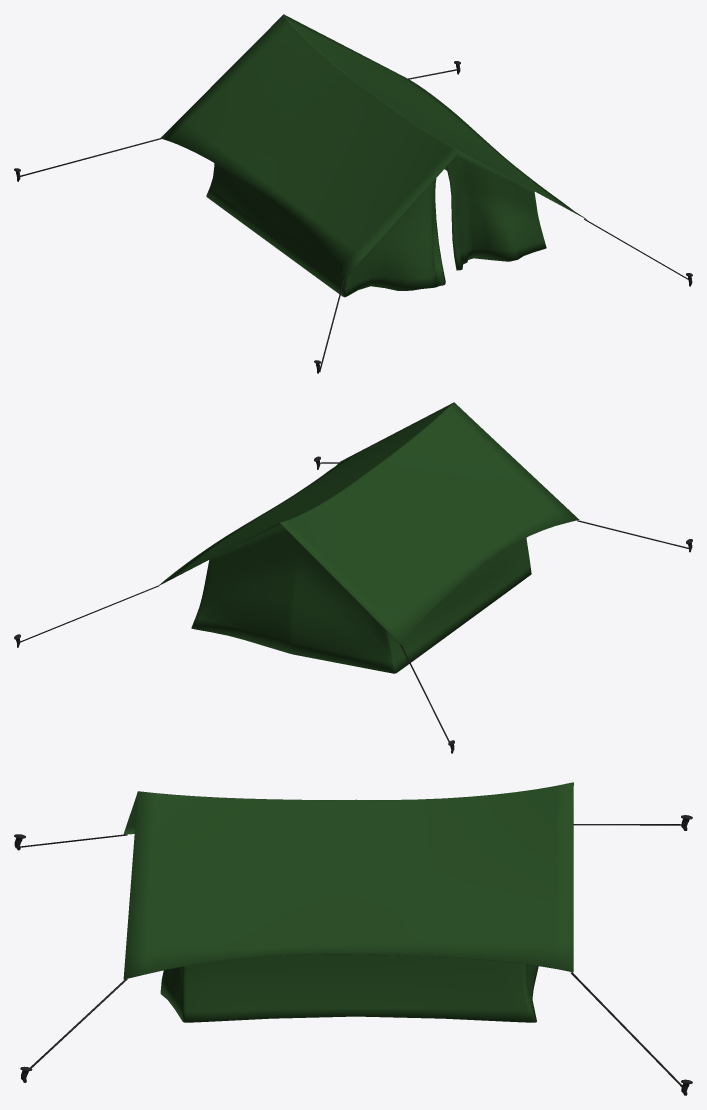
The model's file is SubTent.fbx.
The picture shows the model from 3 angles, top to bottom: view 1: azimuth 30°, elevation 25°; view 2: azimuth 150°, elevation 25°; view 3: azimuth 270°, elevation 25°; orthographic projection. The views are drawn at different scales.
Parts seen in each view (by area): view 1: tent1; view 2: tent1; view 3: tent1.
Boxes of the visible parts, left/top/right/bottom form: tent1: left=14, top=14, right=692, bottom=373; tent1: left=14, top=402, right=692, bottom=753; tent1: left=14, top=782, right=692, bottom=1095.
Size of the model in its own units: 1096 by 362 by 1175.
